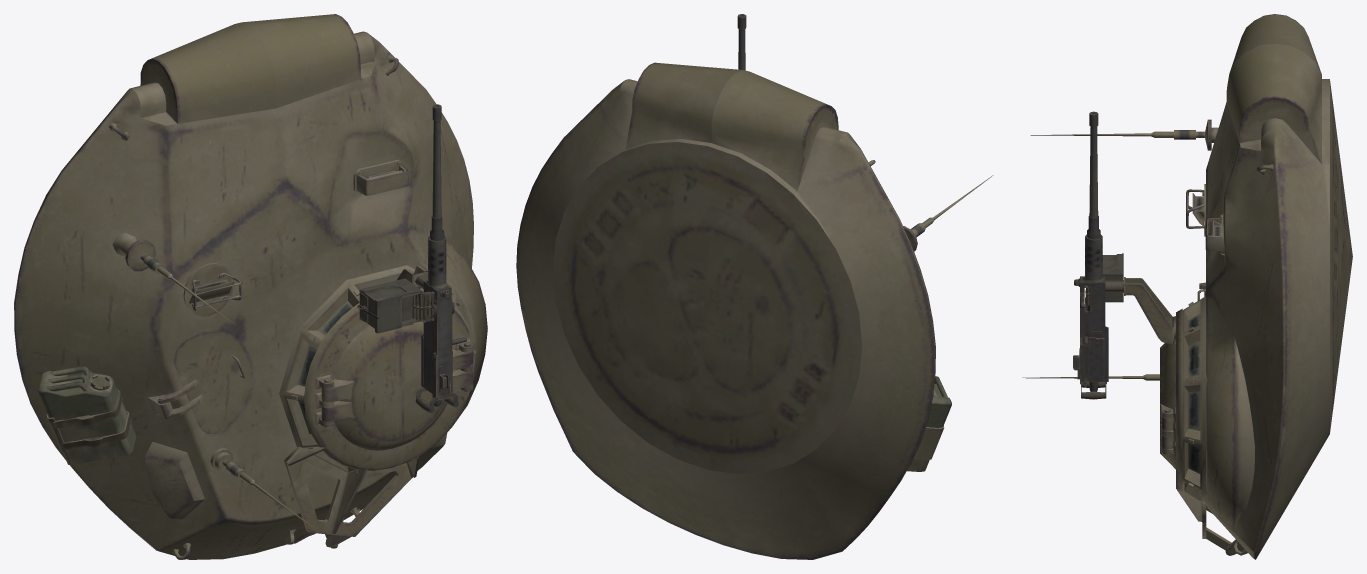
Rendered from Turret_02.glb.
The picture shows the model from 3 angles, left to right: view 1: azimuth 30°, elevation 25°; view 2: azimuth 150°, elevation 25°; view 3: azimuth 270°, elevation 25°; orthographic projection. The views are drawn at different scales.
Visible parts, largest first — view 1: set_0_group_0; view 2: set_0_group_0; view 3: set_0_group_0.
Boxes of the visible parts, box(x1,y1,x2,y2) form: set_0_group_0: box(14, 14, 487, 559); set_0_group_0: box(516, 14, 993, 559); set_0_group_0: box(1022, 14, 1352, 559).
Bounding box in the file's own units: 2.6 × 2.86 × 1.77.
1 material, 1 textured.
